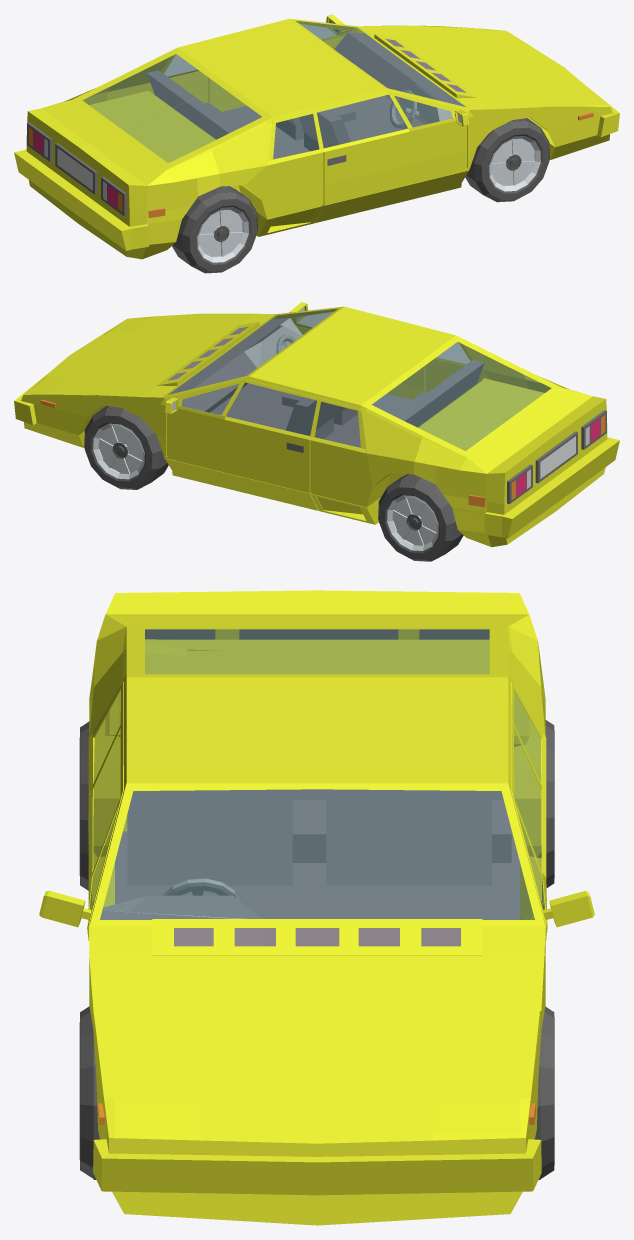
The model's file is SPORTSCAR_LOW_POLY.fbx.
3 views of the same model, one above another, from view 1: azimuth 30°, elevation 25°; view 2: azimuth 150°, elevation 25°; view 3: azimuth 270°, elevation 25° (orthographic). The views are drawn at different scales.
Parts seen in each view (by area): view 1: Car, Wheel.1, Wheel; view 2: Car, Wheel.3, Wheel.2; view 3: Car, Wheel, Wheel.2, Wheel.1, Wheel.3.
Boxes of the visible parts, x1,y1,x2,y2 form: Car: (14,14,619,259); Wheel.1: (172,186,257,273); Wheel: (465,118,549,202); Car: (14,302,619,547); Wheel.3: (378,474,463,561); Wheel.2: (84,406,168,489); Car: (39,590,594,1225); Wheel: (79,1006,99,1179); Wheel.2: (535,1006,554,1179); Wheel.1: (79,721,89,890); Wheel.3: (545,720,554,887).
Size of the model in its own units: 6807 by 1764 by 3261.
